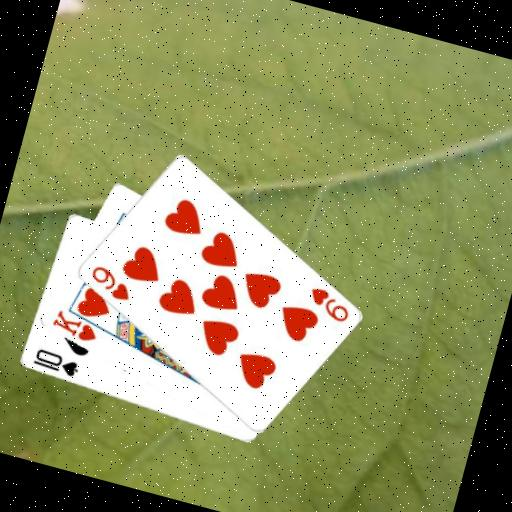10S: (27, 344, 82, 380)
9H: (82, 261, 136, 305), (301, 282, 355, 325)
KH: (46, 305, 102, 346)
